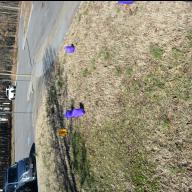cone: (59, 128, 67, 136)
cube: (72, 107, 84, 116), (65, 109, 74, 117), (65, 46, 75, 52), (118, 0, 136, 3)
